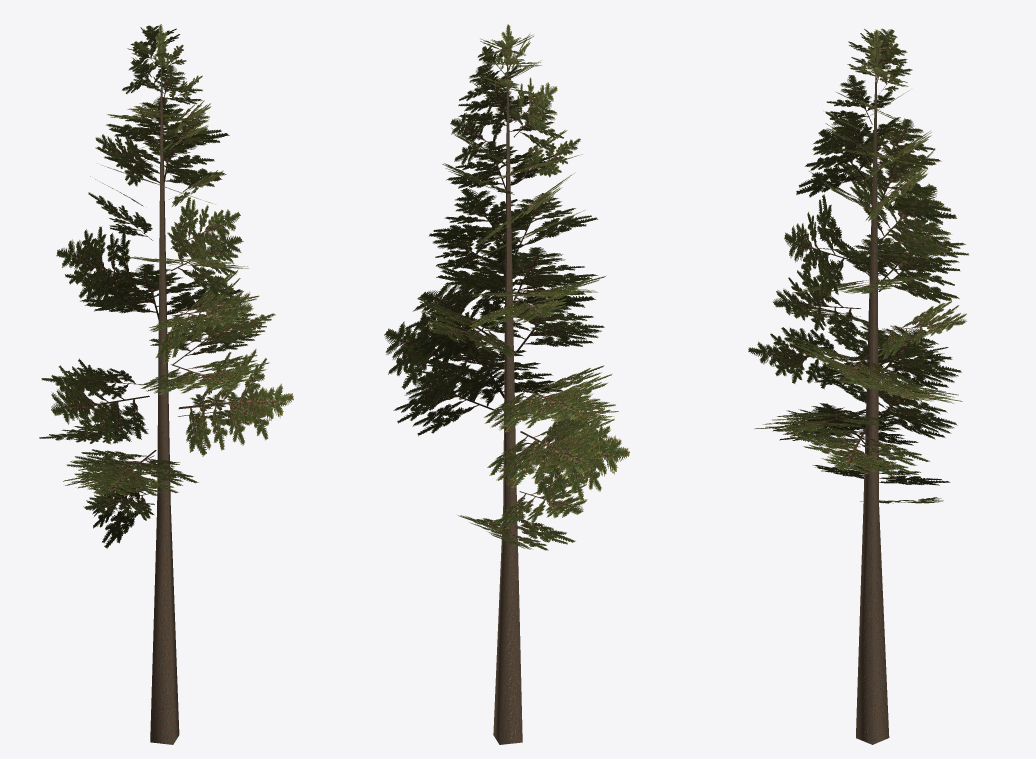
File: fir_tall_b_lod5.gltf
3 renders of one model, left to right at view 1: azimuth 30°, elevation 25°; view 2: azimuth 150°, elevation 25°; view 3: azimuth 270°, elevation 25°, orthographic.
Visible parts, largest first — view 1: fir_tall_b_LOD5; view 2: fir_tall_b_LOD5; view 3: fir_tall_b_LOD5.
Part boxes in pixels (x1,y1,x2,y2): fir_tall_b_LOD5: [39, 24, 293, 744]; fir_tall_b_LOD5: [384, 24, 629, 744]; fir_tall_b_LOD5: [748, 28, 968, 744].
Size of the model in its own units: 13.27 by 33.59 by 13.82.
2 materials, 2 textured.
